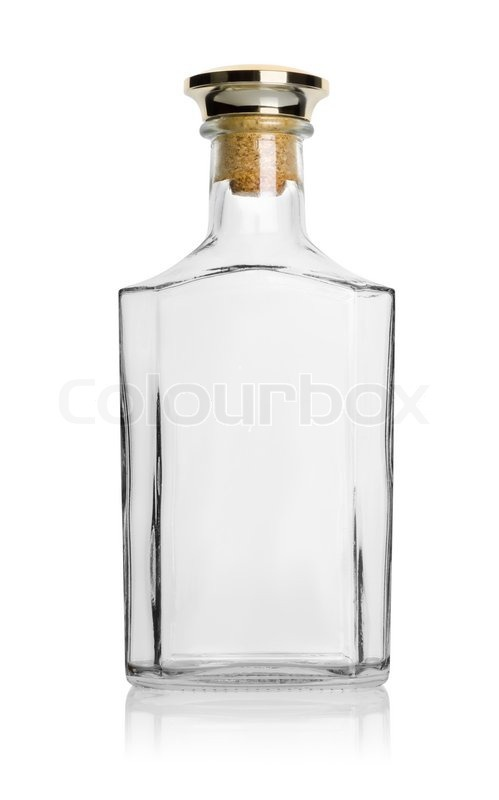emptybottle: (116, 65, 395, 690)
